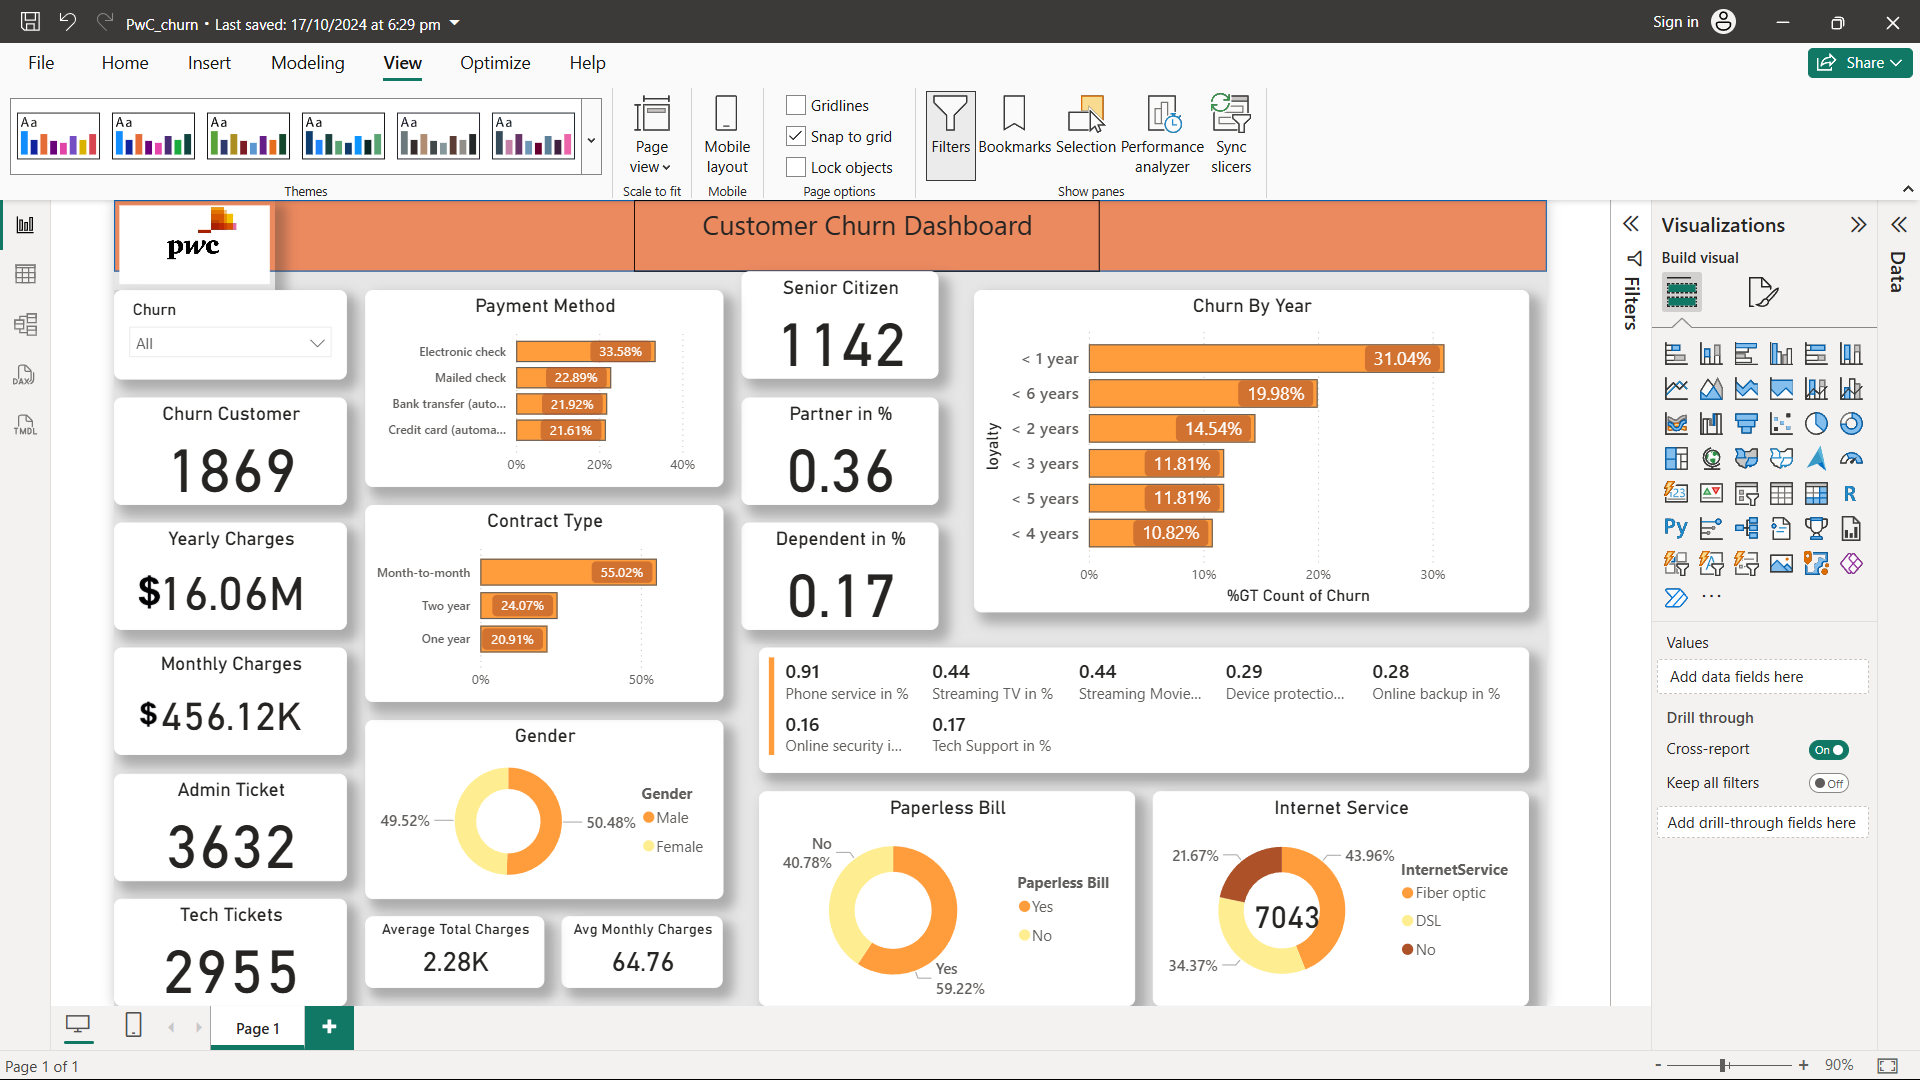

The dashboard page shown, as its layout file describes it:
{"tool":"powerbi","page":{"name":"Page 1","canvas":[1280,720],"ordinal":0},"visuals":[{"type":"shape","box":[0,0,1280,64],"z":0},{"type":"textbox","box":[464,0,416,64],"z":1000},{"type":"image","box":[0,0,144,80],"z":2000},{"type":"slicer","fields":{"Values":["01 Churn-Dataset.Churn"]},"box":[0,80,208,80],"z":3000},{"type":"card","title":"Churn Customer","fields":{"Values":["Measure.churn count"]},"box":[0,176,208,96],"z":4000},{"type":"card","title":"Yearly Charges","fields":{"Values":["Sum(01 Churn-Dataset.TotalCharges)"]},"box":[0,288,208,96],"z":5000},{"type":"card","title":"Monthly Charges","fields":{"Values":["Sum(01 Churn-Dataset.MonthlyCharges)"]},"box":[0,400,208,96],"z":6000},{"type":"card","title":"Admin Ticket","fields":{"Values":["Sum(01 Churn-Dataset.numAdminTickets)"]},"box":[0,512,208,96],"z":7000},{"type":"card","title":"Tech Tickets","fields":{"Values":["Sum(01 Churn-Dataset.numTechTickets)"]},"box":[0,624,208,96],"z":8000},{"type":"donutChart","title":"Gender","fields":{"Y":["CountNonNull(01 Churn-Dataset.gender)"],"Category":["01 Churn-Dataset.gender"]},"box":[224,464,320,160],"z":9000},{"type":"card","title":"Senior Citizen","fields":{"Values":["Measure.SeniorCitizenCount"]},"box":[560,64,176,96],"z":10000},{"type":"card","title":"Partner in %","fields":{"Values":["Measure.Partner in %"]},"box":[560,176,176,96],"z":11000},{"type":"card","title":"Dependent in %","fields":{"Values":["Measure.Dependent in %"]},"box":[560,288,176,96],"z":12000},{"type":"clusteredBarChart","title":"Churn By Year","fields":{"Category":["01 Churn-Dataset.loyalty"],"Y":["CountNonNull(01 Churn-Dataset.Churn)"]},"box":[768,80,496,288],"z":13000},{"type":"clusteredBarChart","title":"Payment Method","fields":{"Y":["CountNonNull(01 Churn-Dataset.PaymentMethod)"],"Category":["01 Churn-Dataset.PaymentMethod"]},"box":[224,80,320,176],"z":14000},{"type":"clusteredBarChart","title":"Contract Type","fields":{"Category":["01 Churn-Dataset.Contract"],"Y":["CountNonNull(01 Churn-Dataset.Contract)"]},"box":[224,272,320,176],"z":15000},{"type":"card","title":"Avg Monthly Charges","fields":{"Values":["Measure.Average MonthlyCharges"]},"box":[400,640,144,64],"z":16000},{"type":"card","title":"Average Total Charges","fields":{"Values":["Measure.Average TotalCharges"]},"box":[224,640,160,64],"z":17000},{"type":"multiRowCard","fields":{"Values":["Measure.Phone service in %","Measure.Streaming TV in %","Measure.Streaming Movies in %","Measure.Device protection in %","Measure.Online backup in %","Measure.Online security in %","Measure.Tech Support in %"]},"box":[576,400,688,112],"z":18000},{"type":"donutChart","title":"Paperless Bill","fields":{"Category":["01 Churn-Dataset.PaperlessBilling"],"Y":["CountNonNull(01 Churn-Dataset.PaperlessBilling)"]},"box":[576,528,336,192],"z":19000},{"type":"donutChart","title":"Internet Service","fields":{"Category":["01 Churn-Dataset.InternetService"],"Y":["CountNonNull(01 Churn-Dataset.InternetService)"]},"box":[928,528,336,192],"z":20000},{"type":"card","fields":{"Values":["CountNonNull(01 Churn-Dataset.InternetService)"]},"box":[1008,608,80,64],"z":21000},{"type":"image","box":[7,331,49,39],"z":22000},{"type":"image","box":[7,443,48,32],"z":23000}]}

Visuals, with their boxes on the page's 1280x720 design canvas (x1, y1, x2, y2). These are canvas units, not pixel positions in the 1920x1080 screenshot, which may show the page scaled, cropped or inside an application window:
shape: 0/0/1280/64
textbox: 464/0/880/64
image: 0/0/144/80
slicer - 01 Churn-Dataset.Churn: 0/80/208/160
"Churn Customer" card: 0/176/208/272
"Yearly Charges" card: 0/288/208/384
"Monthly Charges" card: 0/400/208/496
"Admin Ticket" card: 0/512/208/608
"Tech Tickets" card: 0/624/208/720
"Gender" donutChart: 224/464/544/624
"Senior Citizen" card: 560/64/736/160
"Partner in %" card: 560/176/736/272
"Dependent in %" card: 560/288/736/384
"Churn By Year" clusteredBarChart: 768/80/1264/368
"Payment Method" clusteredBarChart: 224/80/544/256
"Contract Type" clusteredBarChart: 224/272/544/448
"Avg Monthly Charges" card: 400/640/544/704
"Average Total Charges" card: 224/640/384/704
multiRowCard - Measure.Phone service in % x Measure.Streaming TV in %: 576/400/1264/512
"Paperless Bill" donutChart: 576/528/912/720
"Internet Service" donutChart: 928/528/1264/720
card - CountNonNull(01 Churn-Dataset.InternetService): 1008/608/1088/672
image: 7/331/56/370
image: 7/443/55/475
